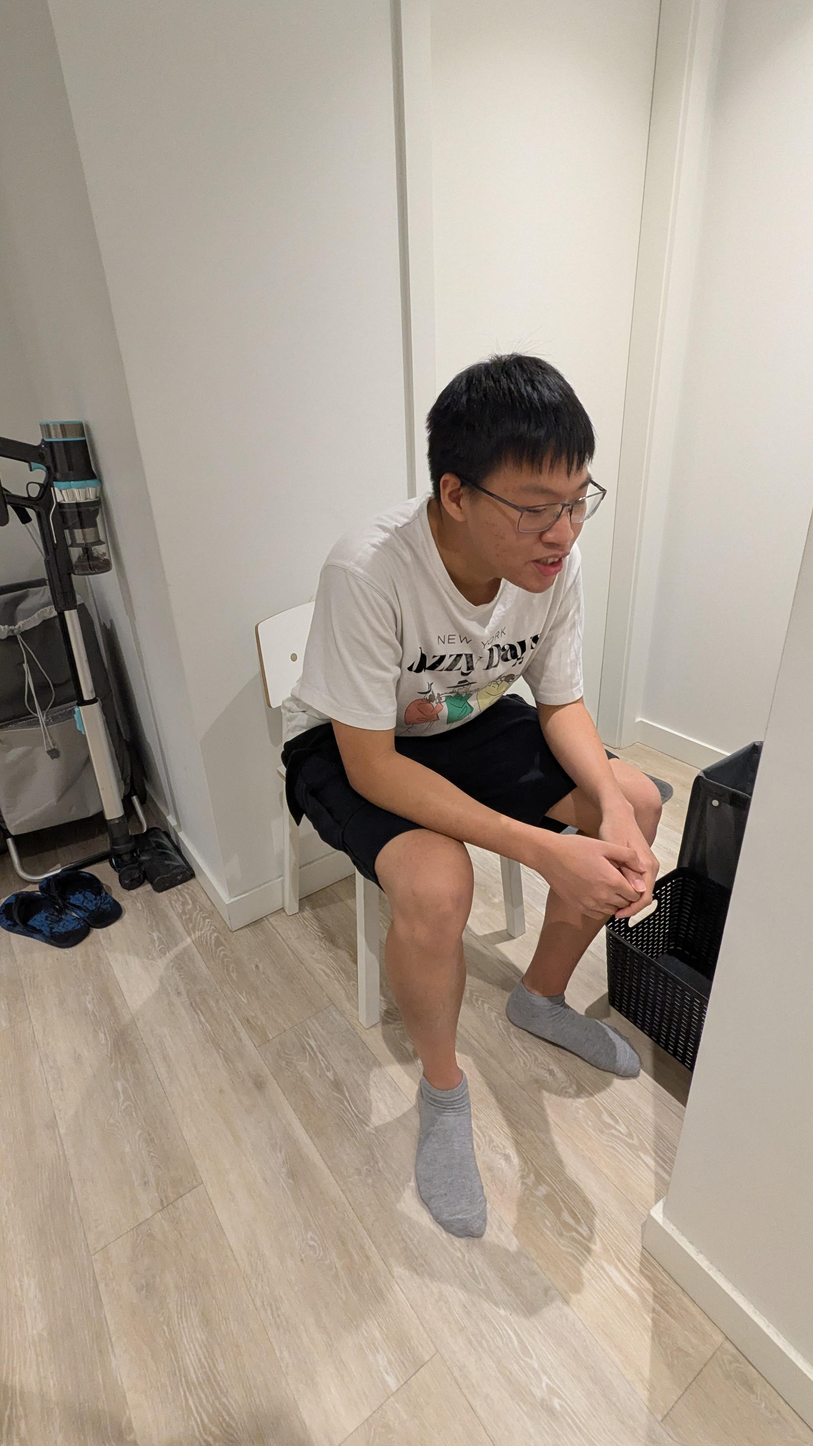BadPosture: (281, 356, 663, 1236)
